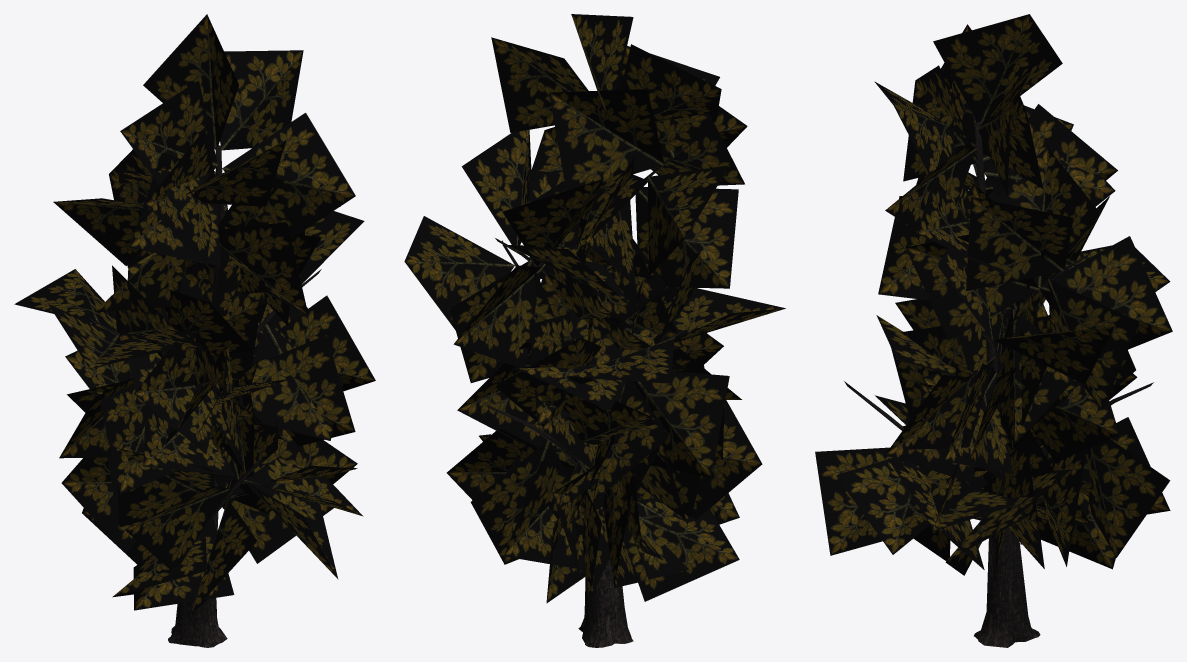
Rendered from tree_7.obj.
3 renders of one model, left to right at view 1: azimuth 30°, elevation 25°; view 2: azimuth 150°, elevation 25°; view 3: azimuth 270°, elevation 25°, orthographic. The views are drawn at different scales.
Visible parts, largest first — view 1: tree_7_leaves, tree_7; view 2: tree_7_leaves, tree_7; view 3: tree_7_leaves, tree_7.
Part boxes in pixels (<box>): tree_7_leaves: <box>14,14,375,613</box>; tree_7: <box>86,145,321,647</box>; tree_7_leaves: <box>404,14,785,603</box>; tree_7: <box>486,143,691,647</box>; tree_7_leaves: <box>815,14,1172,575</box>; tree_7: <box>844,122,1153,647</box>.
Size of the model in its own units: 4.48 by 8.29 by 4.25.
